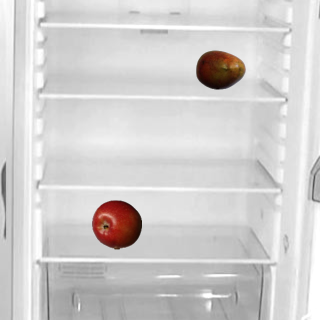Apple Braeburn: (91, 199, 141, 249)
Mango Red: (195, 44, 245, 94)
